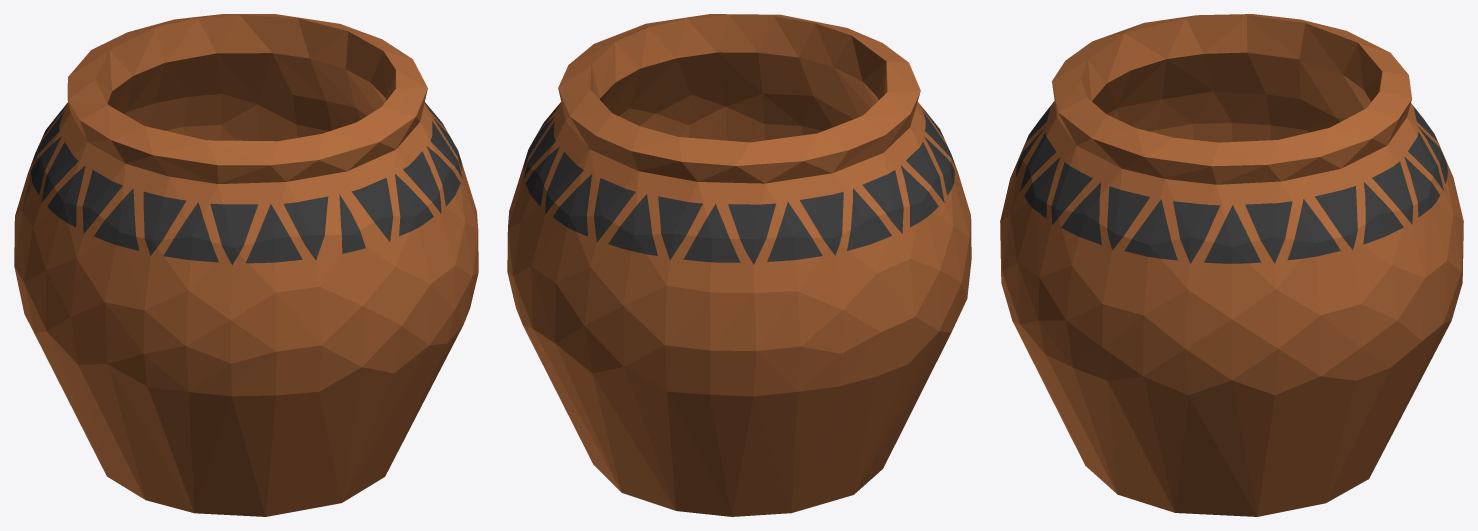
File: Pottery 18_1.fbx
The picture shows the model from 3 angles, left to right: view 1: azimuth 30°, elevation 25°; view 2: azimuth 150°, elevation 25°; view 3: azimuth 270°, elevation 25°; orthographic projection.
Visible parts, largest first — view 1: Pottery 18_1; view 2: Pottery 18_1; view 3: Pottery 18_1.
Part boxes in pixels (left/top/right/bottom): Pottery 18_1: left=14, top=14, right=478, bottom=516; Pottery 18_1: left=507, top=14, right=971, bottom=516; Pottery 18_1: left=1000, top=14, right=1463, bottom=516.
Bounding box in the file's own units: 71.99 × 64.48 × 71.99.
